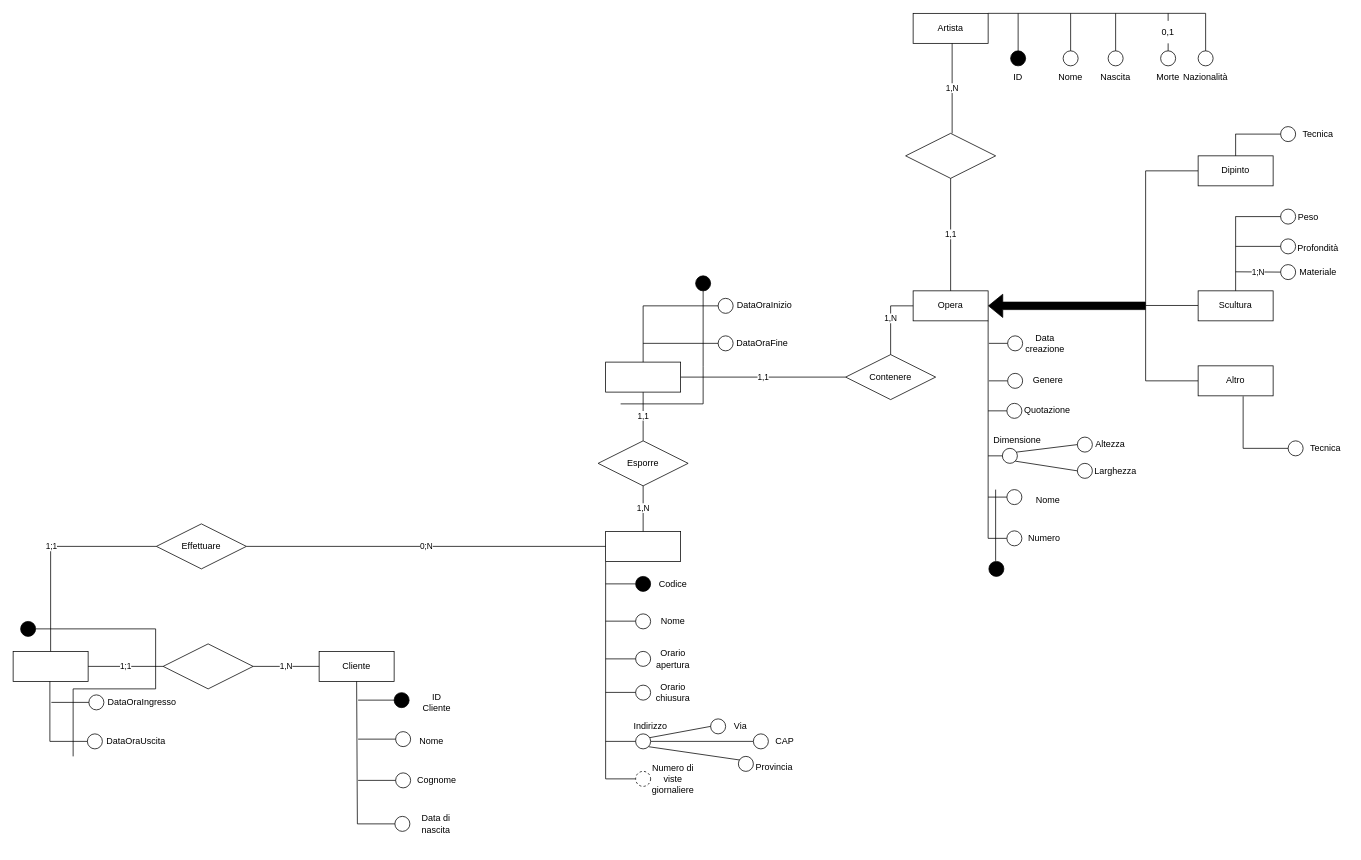
This 1361x860 diagram has some shape labels left out. Here are the shapes that lost their labels. From the top down, the centre of each, then its label:
pixel 950 155: Creare
pixel 643 376: Mostra
pixel 643 546: Museo
pixel 50 666: Visita
pixel 207 666: Svolgere
